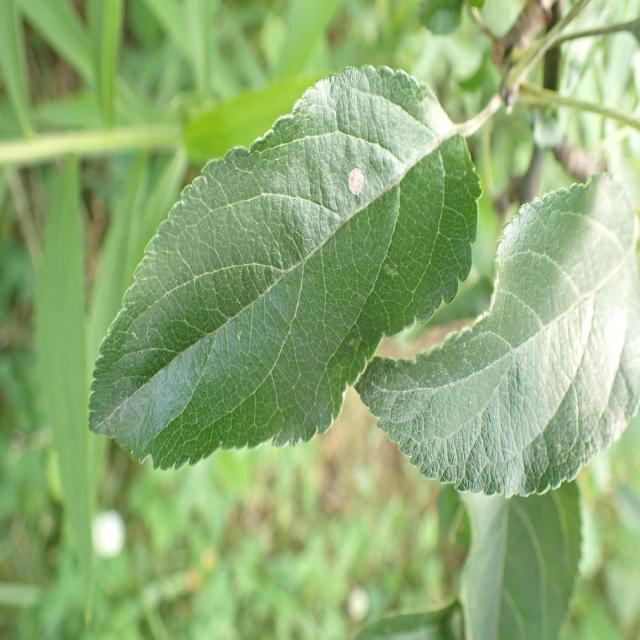Black Rot: (344, 156, 376, 219)
